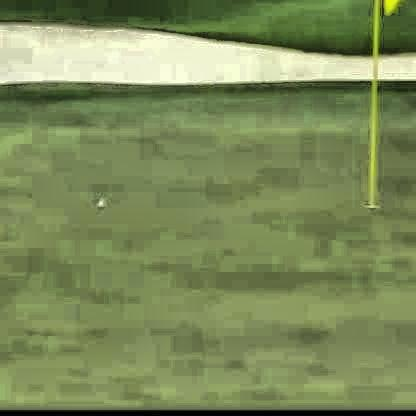golfball: (93, 195, 104, 206)
